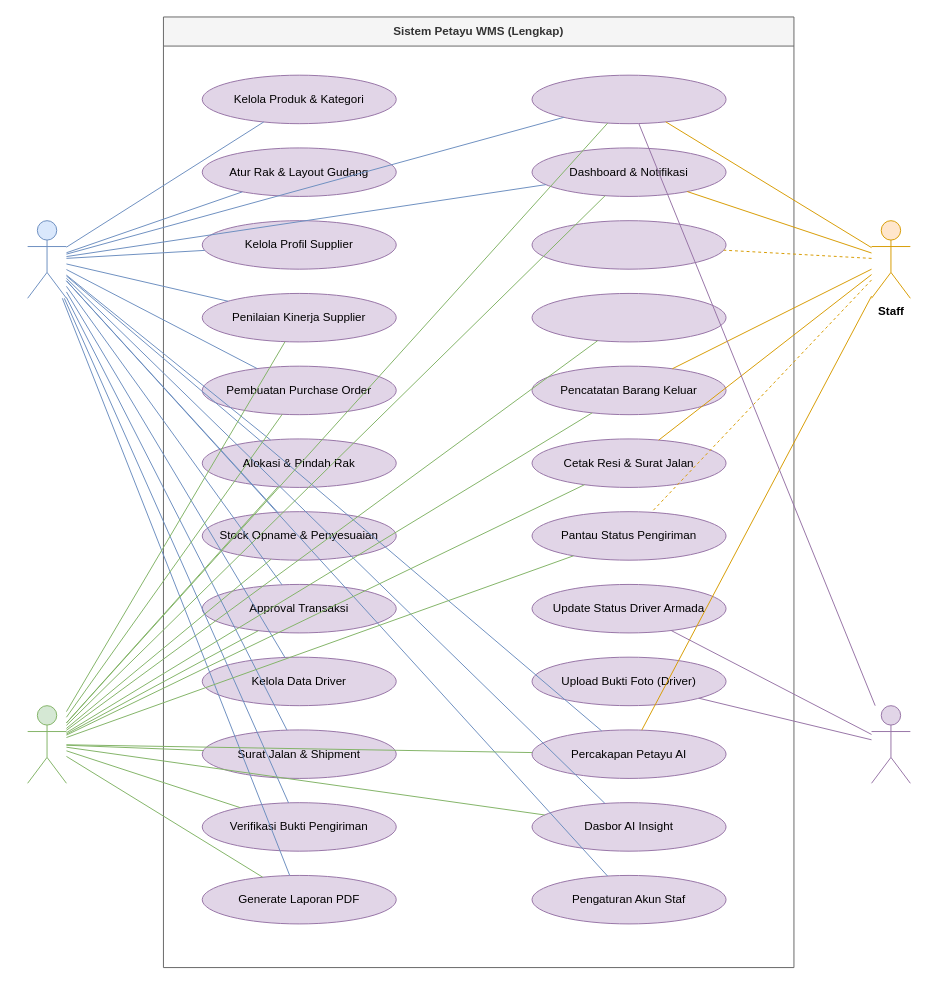
Some shapes in this 948 by 985 pixel diagram are drawn without their labels. The centre of each missing label's shape, as x and y in pixels:
"Driver Armada" belongs at pixel 890 744.
"Lihat Daftar Inventory & Rak" belongs at pixel 628 244.
"Login & Autentikasi" belongs at pixel 628 99.
"Manager" belongs at pixel 46 259.
"Pencatatan Barang Masuk" belongs at pixel 628 317.
"Supervisor" belongs at pixel 46 744.
